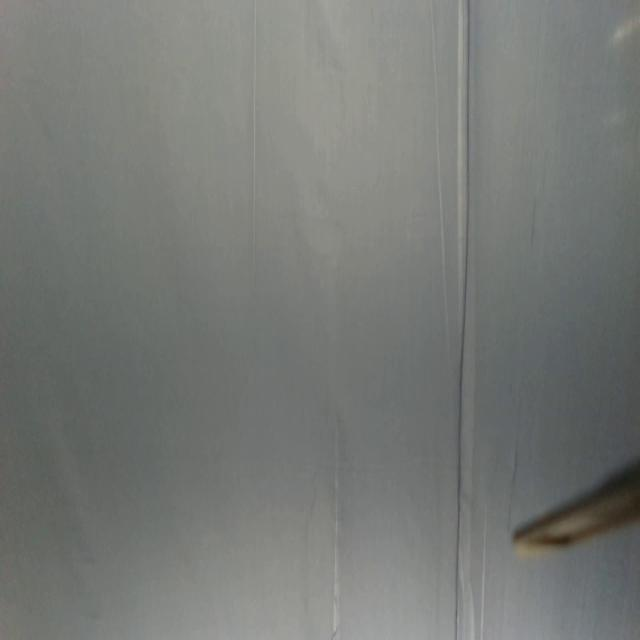crease: (451, 1, 472, 640), (425, 4, 454, 361), (249, 1, 263, 272), (328, 420, 342, 637), (477, 509, 490, 640)
